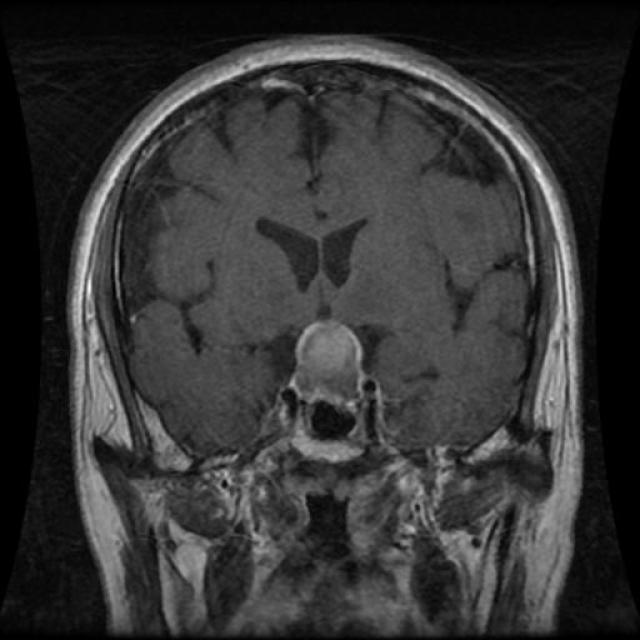pituitary: (280, 312, 382, 462)
